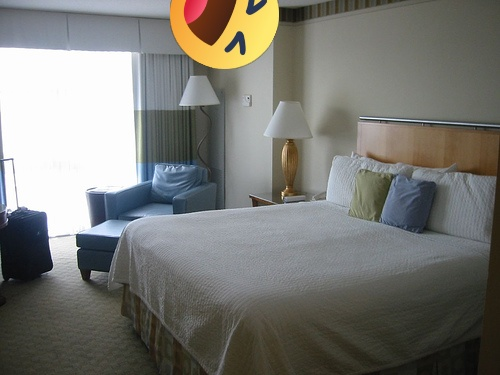haha: (170, 0, 279, 69)
